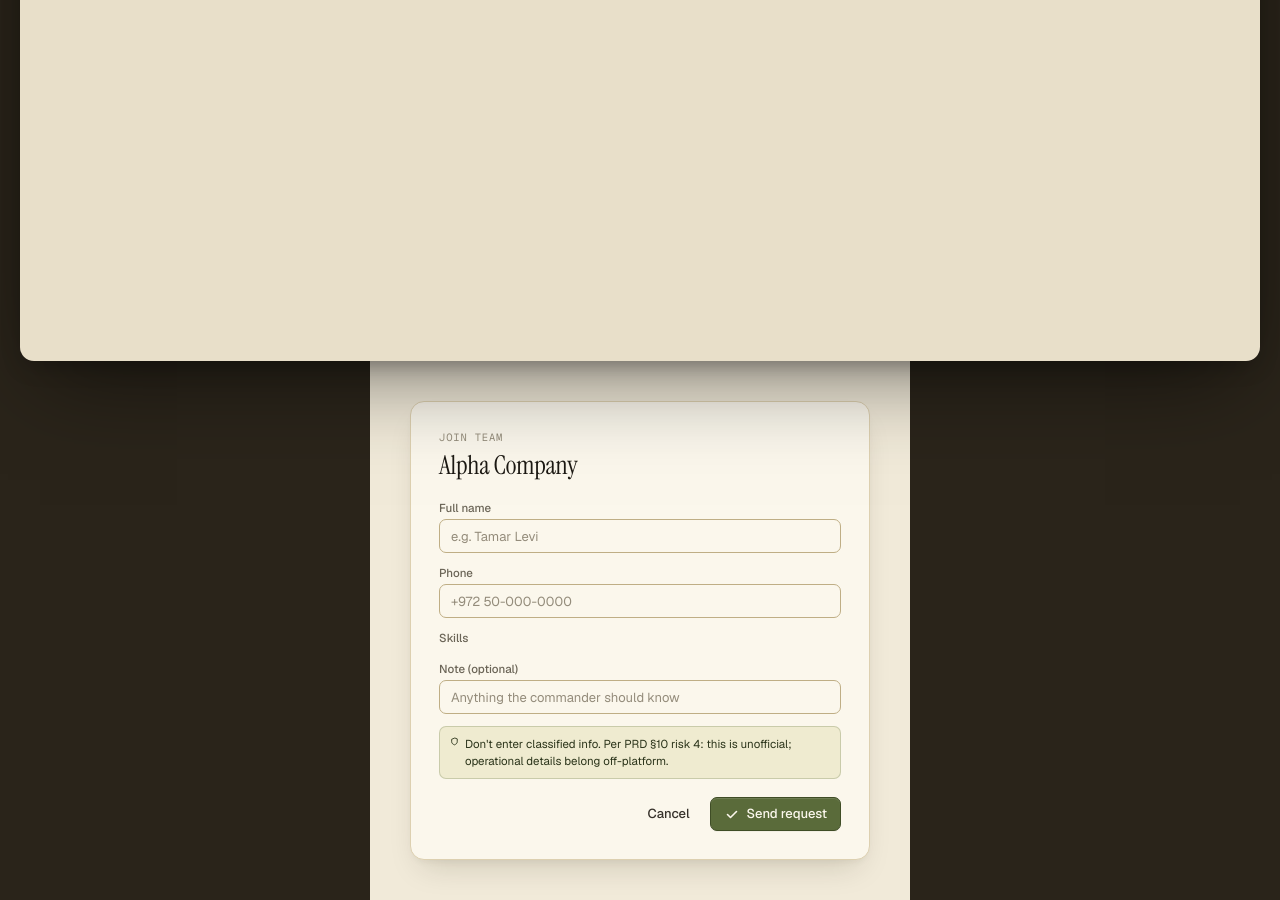
Test: JoinScreen › clears the phone hint and re-enables Send request once a valid IL number is entered
The image size is (1280, 900).
(page scrolled)
In the field with placeholder "e.g. Tamar Levi": [640, 536] box [439, 519, 841, 553], type "Tamar Levi"
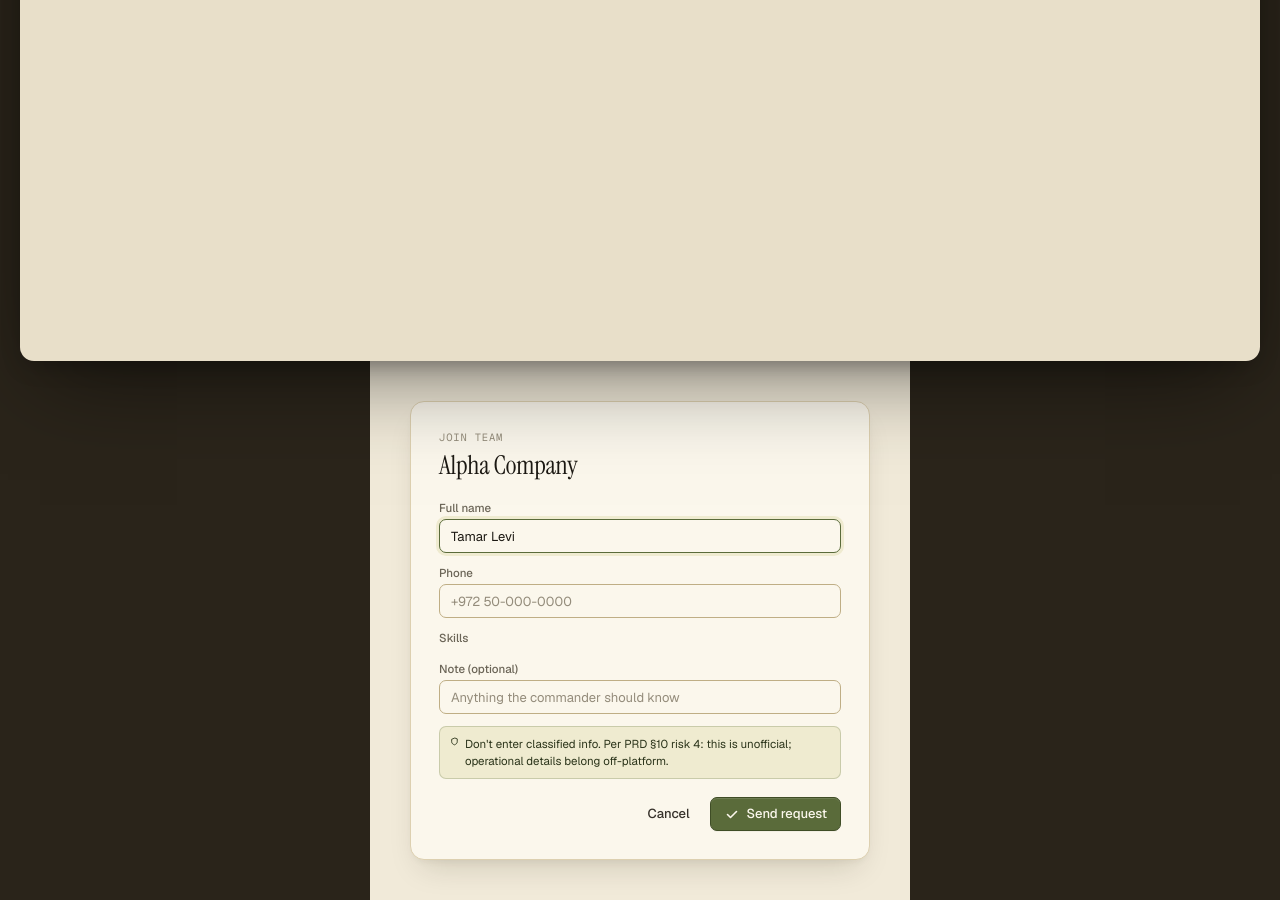
In the field with placeholder "+972 50-000-0000": [640, 601] box [439, 584, 841, 618], type "abc"
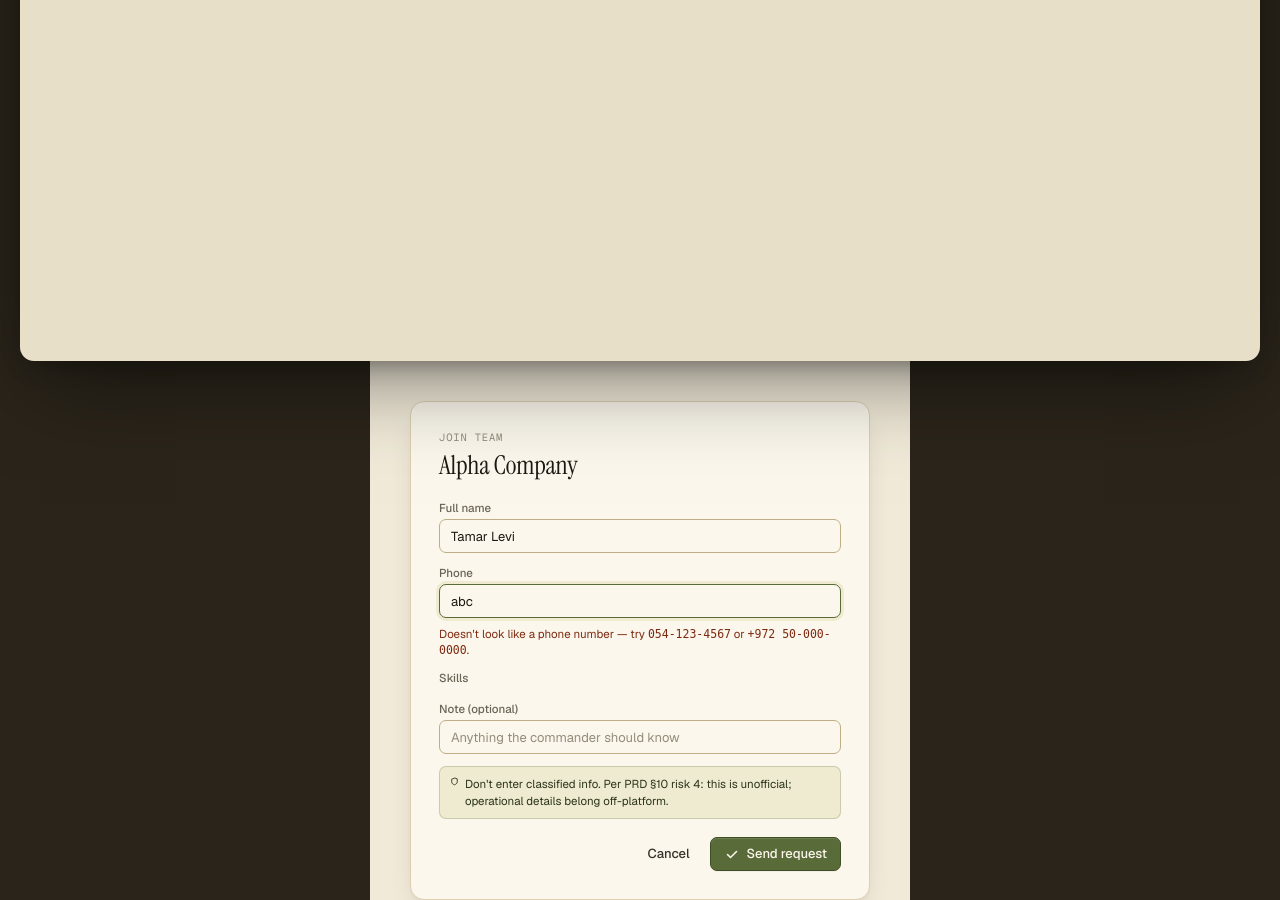
Check: the button "Send request" is disabled, box [710, 837, 841, 871]
Check: the element with test id "phone-hint" is shown, box [439, 626, 841, 658]
# Replace with a normalizable local-IL string.
Replace the text in the 2nd field with placeholder "+972 50-000-0000" with "054-123-4567": [640, 601] box [439, 584, 841, 618]
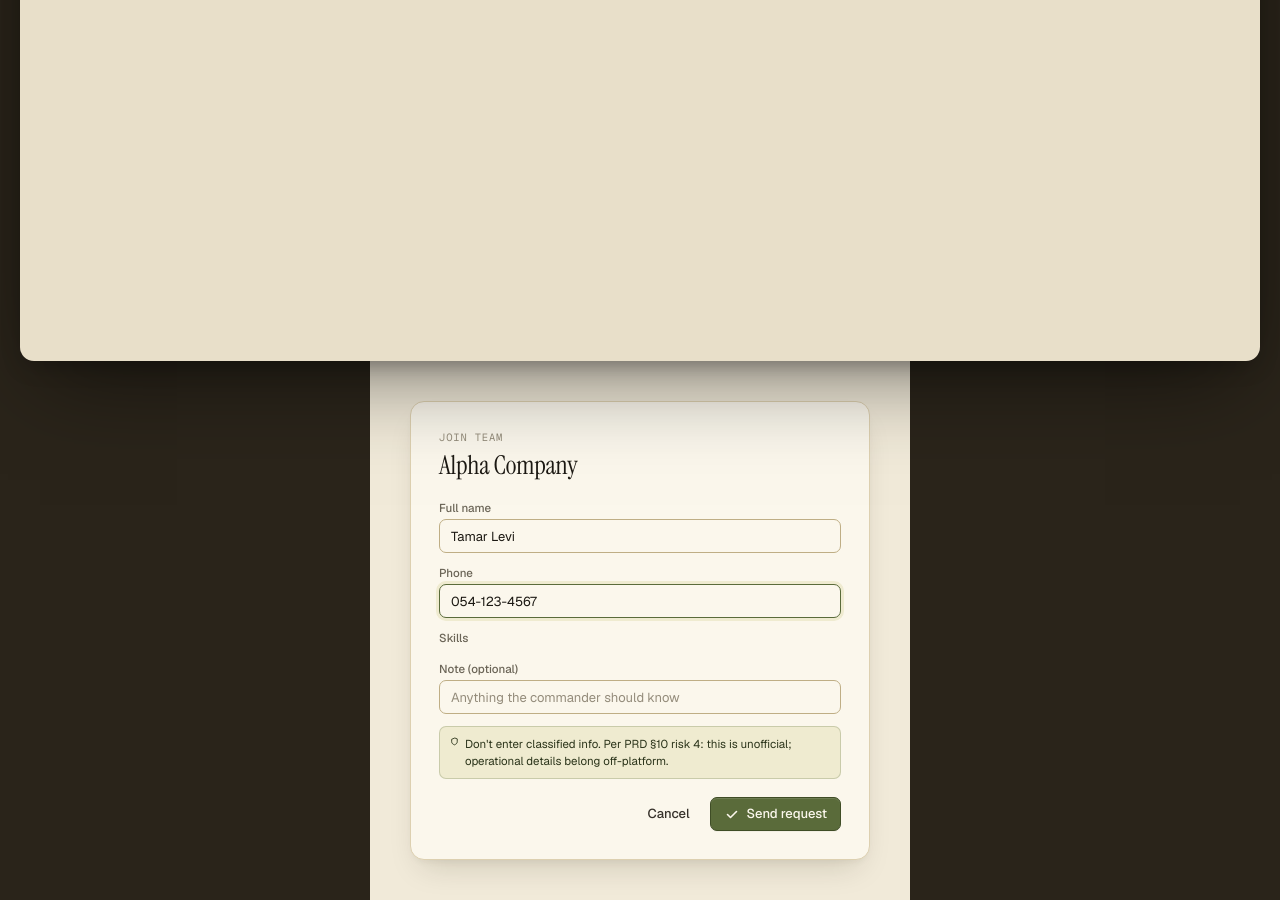
Check: the button "Send request" is enabled, box [710, 796, 841, 830]
